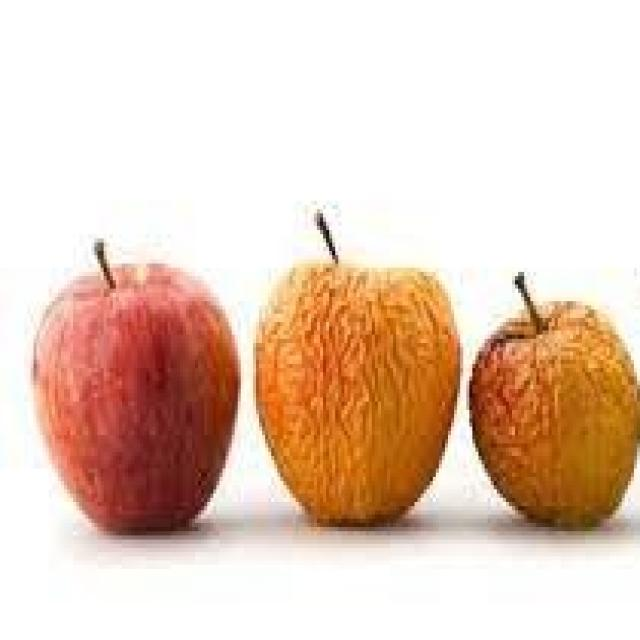overripe: (26, 258, 242, 538), (253, 255, 463, 522), (466, 293, 640, 527)
